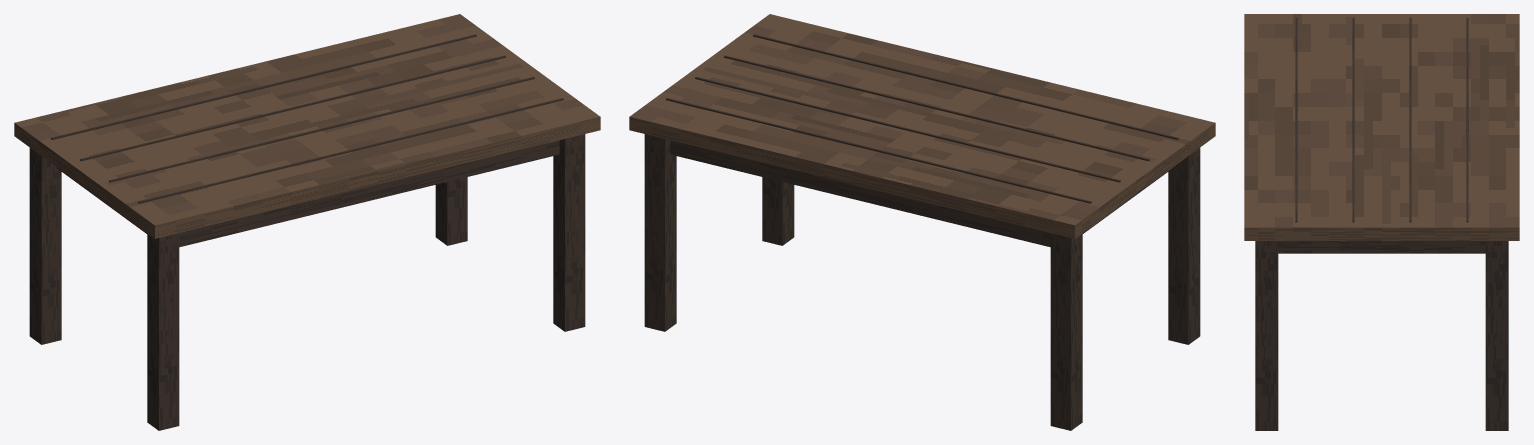
Rendered from mesa_cocina_rectangular.glb.
The picture shows the model from 3 angles, left to right: view 1: azimuth 30°, elevation 25°; view 2: azimuth 150°, elevation 25°; view 3: azimuth 270°, elevation 25°; orthographic projection.
Visible parts, largest first — view 1: mesa_cocina_rectangular; view 2: mesa_cocina_rectangular; view 3: mesa_cocina_rectangular.
Boxes of the visible parts, x1=… form: mesa_cocina_rectangular: x1=14, y1=14, x2=600, y2=430; mesa_cocina_rectangular: x1=629, y1=14, x2=1215, y2=430; mesa_cocina_rectangular: x1=1244, y1=14, x2=1519, y2=430.
Size of the model in its own units: 1.68 by 0.767 by 0.9144.
1 material, 1 textured.
